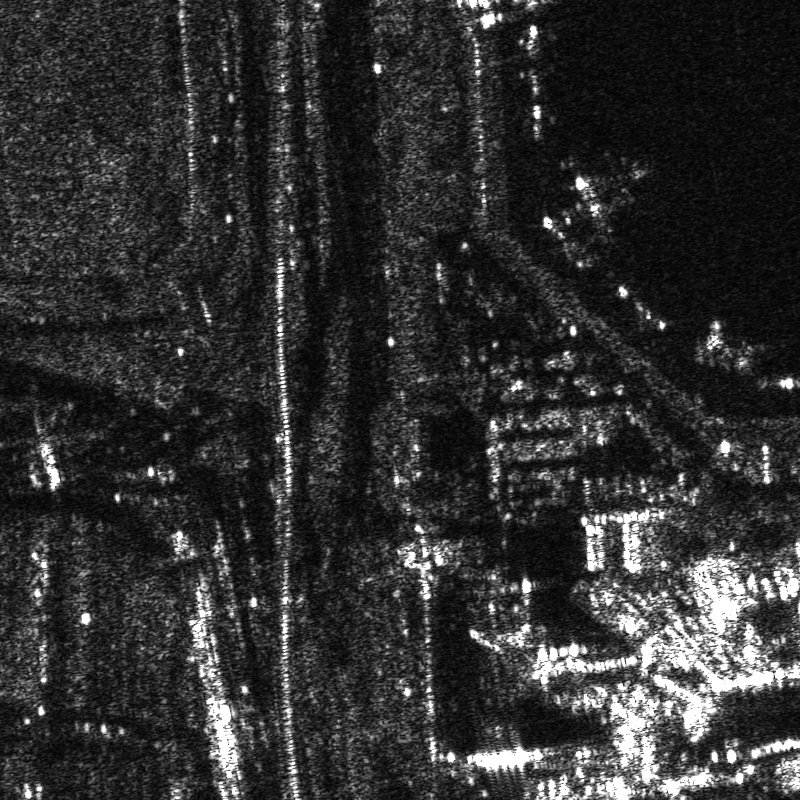A220: (561, 161, 651, 235)
